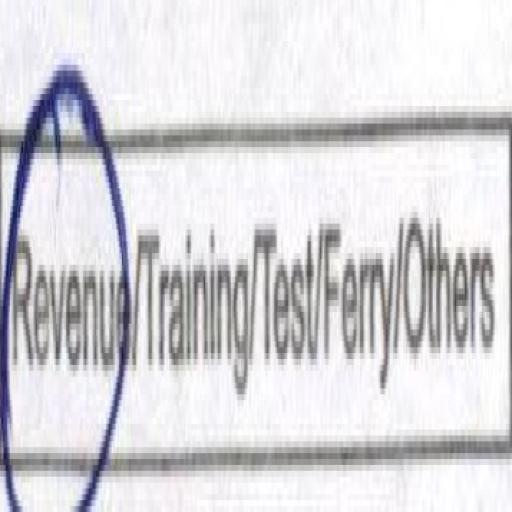check: (2, 30, 131, 512)
